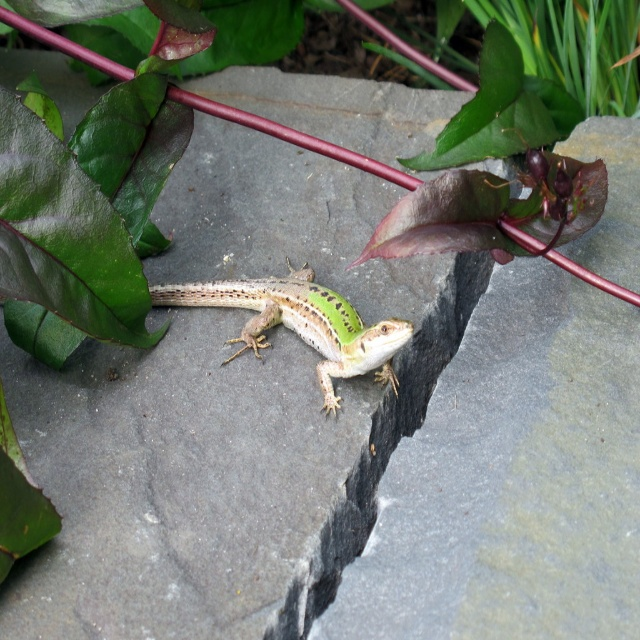Lizard: (137, 256, 351, 410)
